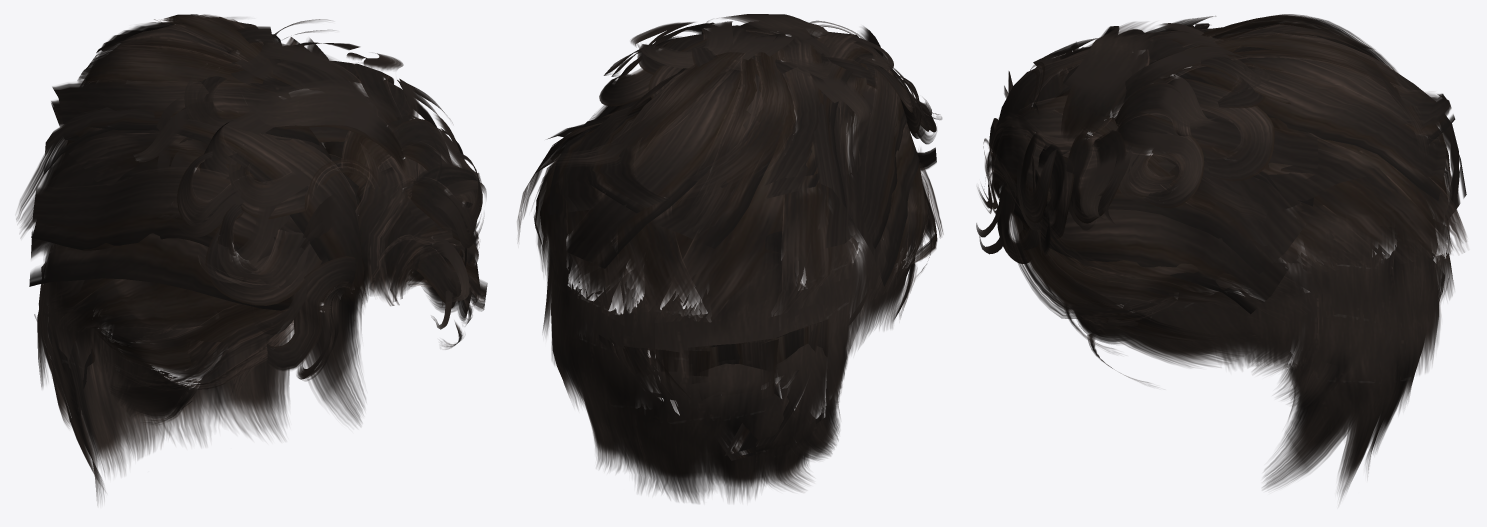
The model's file is Triangle_Wavy_SidePart.glb.
3 views of the same model, side by side, from view 1: azimuth 30°, elevation 25°; view 2: azimuth 150°, elevation 25°; view 3: azimuth 270°, elevation 25° (orthographic). The views are drawn at different scales.
Parts seen in each view (by area): view 1: TRIANGLE - CURLY - SIDE PART.011, SIDE PART.004; view 2: TRIANGLE - CURLY - SIDE PART.011, SIDE PART.004; view 3: TRIANGLE - CURLY - SIDE PART.011, SIDE PART.004.
Boxes of the visible parts, x1,y1,x2,y2 form: TRIANGLE - CURLY - SIDE PART.011: (16, 14, 487, 501); SIDE PART.004: (133, 19, 486, 381); TRIANGLE - CURLY - SIDE PART.011: (517, 31, 943, 503); SIDE PART.004: (599, 14, 942, 170); TRIANGLE - CURLY - SIDE PART.011: (983, 14, 1466, 500); SIDE PART.004: (976, 16, 1290, 263).
Size of the model in its own units: 0.2095 by 0.2485 by 0.2571.
Materials: 1 (1 with a texture image).
